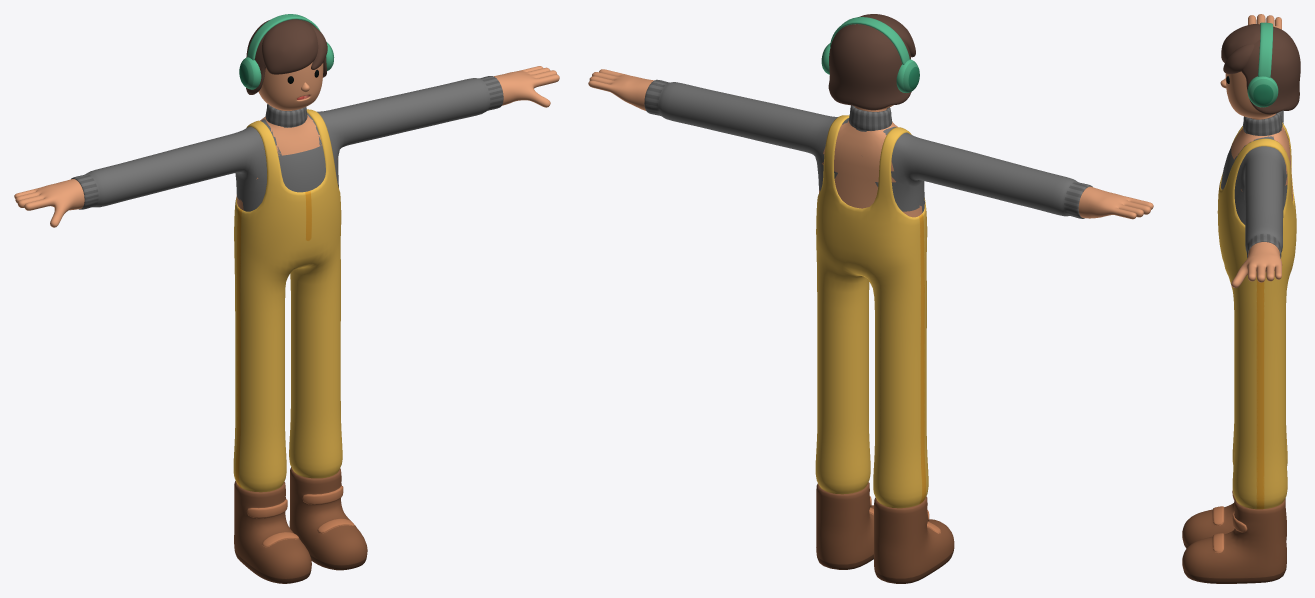
File: BOY 7.fbx
The picture shows the model from 3 angles, left to right: view 1: azimuth 30°, elevation 25°; view 2: azimuth 150°, elevation 25°; view 3: azimuth 270°, elevation 25°; orthographic projection. The views are drawn at different scales.
Visible parts, largest first — view 1: BOY 7_OVERALLS, BOY 7_SHIRTS, BOY_BODY.007, BOY_7_SHOES.R, BOY_7_SHOES.L, BOY 7_HAIR, BOY 7_EAR MUFFS; view 2: BOY 7_OVERALLS, BOY 7_SHIRTS, BOY_BODY.007, BOY 7_HAIR, BOY_7_SHOES.R, BOY_7_SHOES.L, BOY 7_EAR MUFFS; view 3: BOY 7_OVERALLS, BOY_7_SHOES.L, BOY 7_SHIRTS, BOY 7_HAIR, BOY_BODY.007, BOY 7_EAR MUFFS, BOY_7_SHOES.R.
Boxes of the visible parts, left/top/right/bottom form: BOY 7_OVERALLS: left=233, top=109, right=342, bottom=492; BOY 7_SHIRTS: left=71, top=76, right=503, bottom=211; BOY_BODY.007: left=14, top=62, right=559, bottom=227; BOY_7_SHOES.R: left=234, top=481, right=311, bottom=583; BOY_7_SHOES.L: left=289, top=467, right=367, bottom=570; BOY 7_HAIR: left=246, top=19, right=327, bottom=94; BOY 7_EAR MUFFS: left=239, top=14, right=334, bottom=89; BOY 7_OVERALLS: left=815, top=115, right=928, bottom=508; BOY 7_SHIRTS: left=644, top=79, right=1092, bottom=218; BOY_BODY.007: left=588, top=69, right=1153, bottom=219; BOY 7_HAIR: left=828, top=14, right=915, bottom=110; BOY_7_SHOES.R: left=874, top=496, right=954, bottom=583; BOY_7_SHOES.L: left=816, top=482, right=873, bottom=569; BOY 7_EAR MUFFS: left=821, top=17, right=919, bottom=92; BOY 7_OVERALLS: left=1217, top=122, right=1296, bottom=509; BOY_7_SHOES.L: left=1182, top=499, right=1286, bottom=583; BOY 7_SHIRTS: left=1221, top=110, right=1287, bottom=258; BOY 7_HAIR: left=1221, top=24, right=1300, bottom=114; BOY_BODY.007: left=1220, top=14, right=1293, bottom=287; BOY 7_EAR MUFFS: left=1247, top=22, right=1278, bottom=107; BOY_7_SHOES.R: left=1182, top=491, right=1286, bottom=548.
Size of the model in its own units: 205 by 193 by 38.85.
9 materials, 6 textured.
